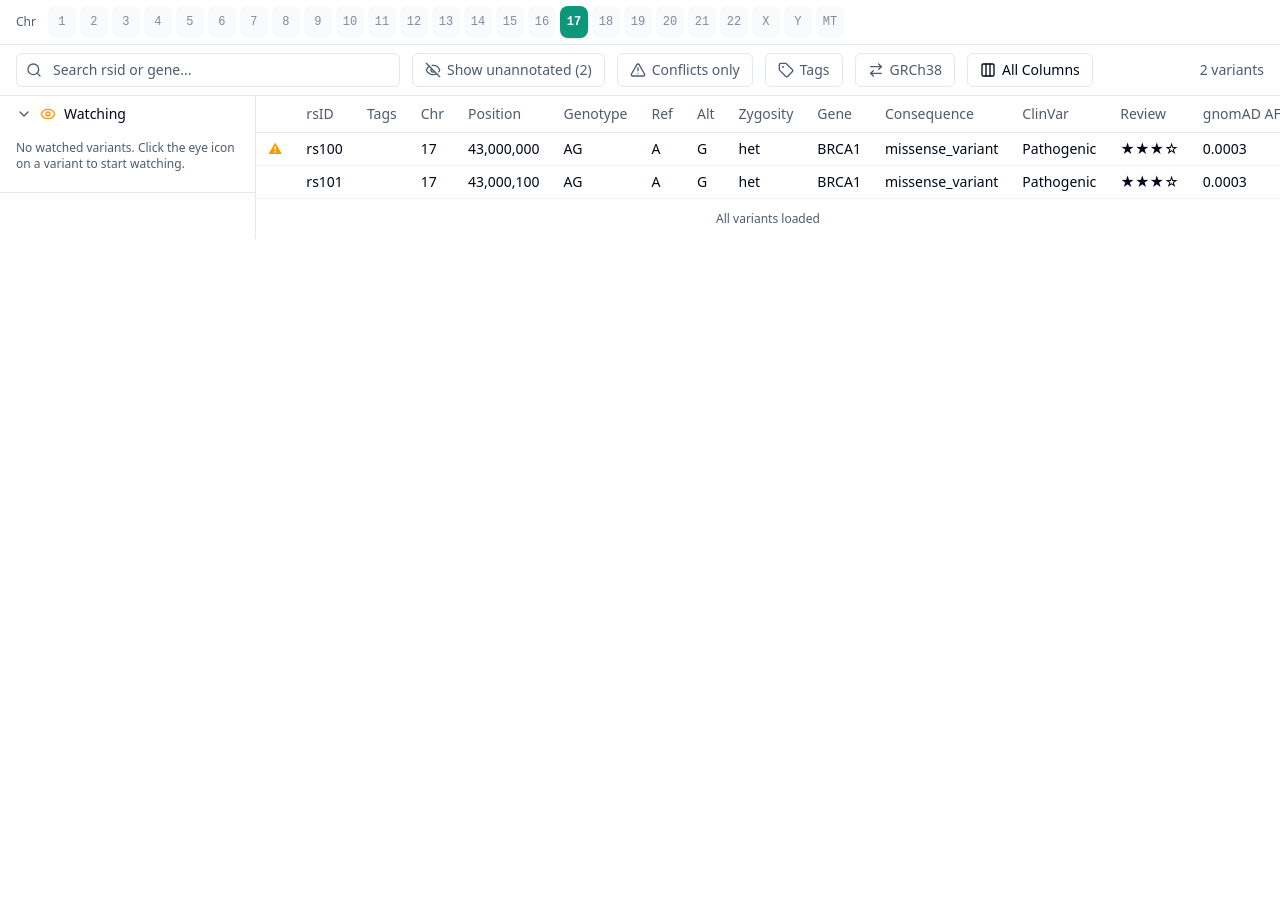
it: VariantTable row click → side panel (P2-21) › opens side panel when a variant row is clicked
Click the first row
Click the text "rs100" at (325, 149), box [294,132,355,166]
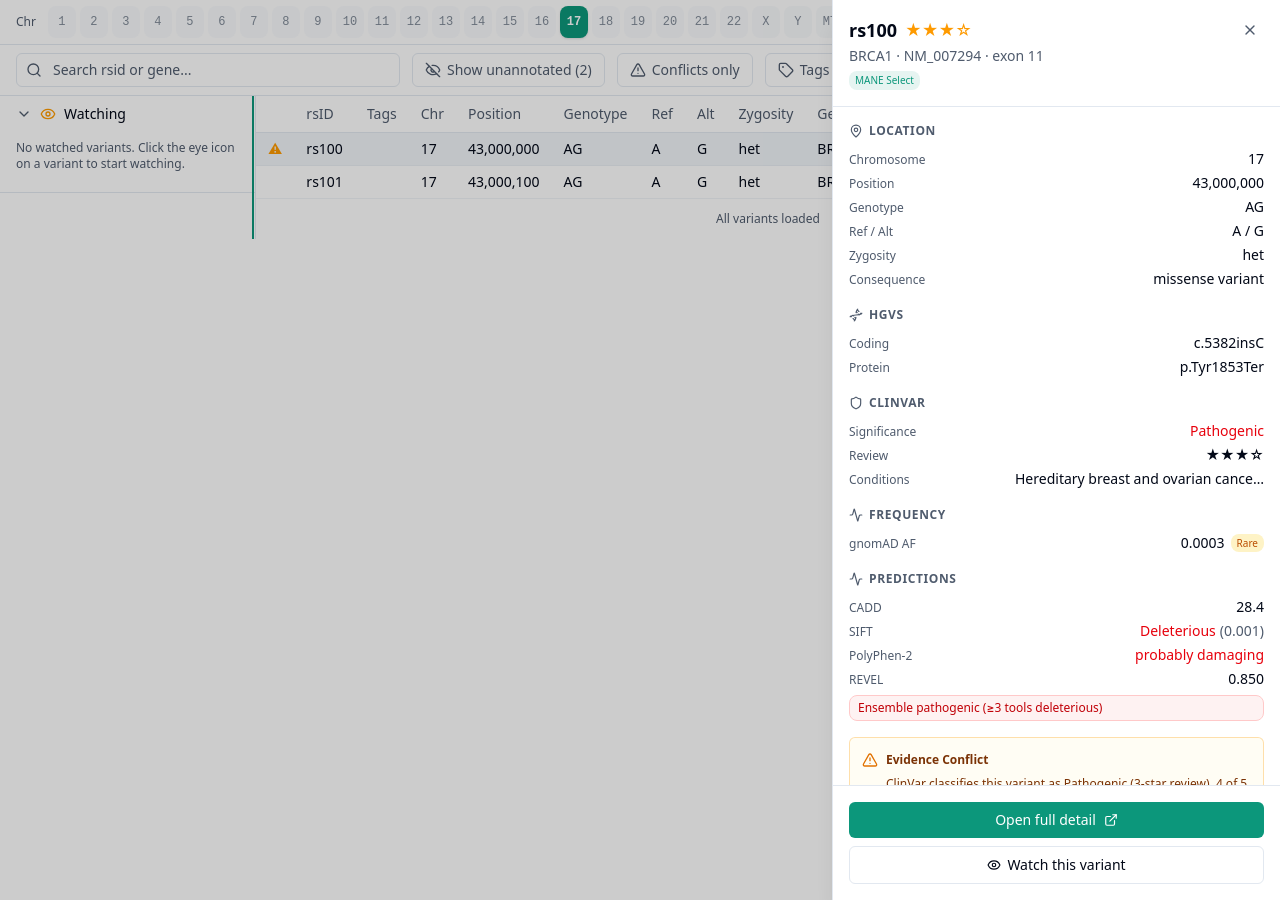
Check: the dialog is shown, box [832,0,1279,899]
